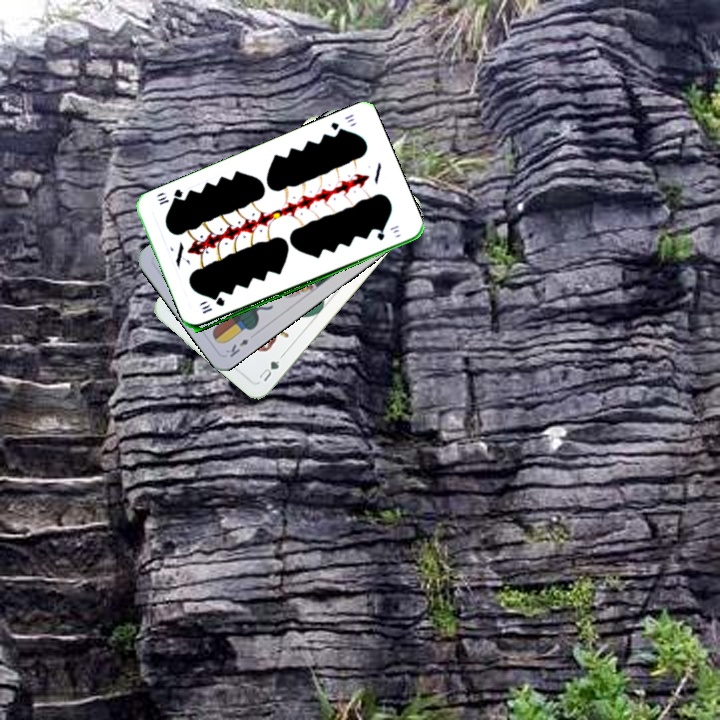EK: (221, 335, 252, 360)
G10: (327, 110, 357, 137), (197, 295, 227, 316)
GU: (255, 356, 282, 384)
